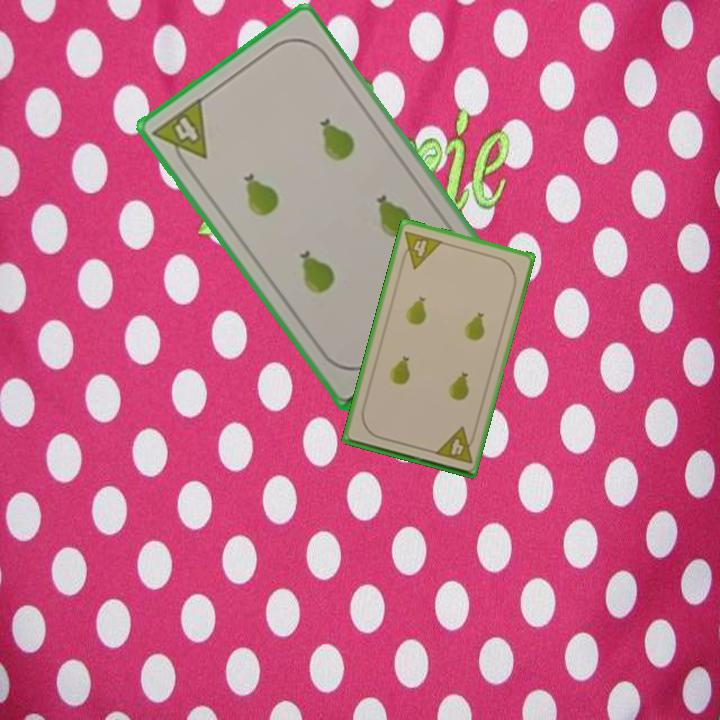4p: (148, 94, 211, 174), (397, 227, 445, 272), (431, 423, 479, 466)
